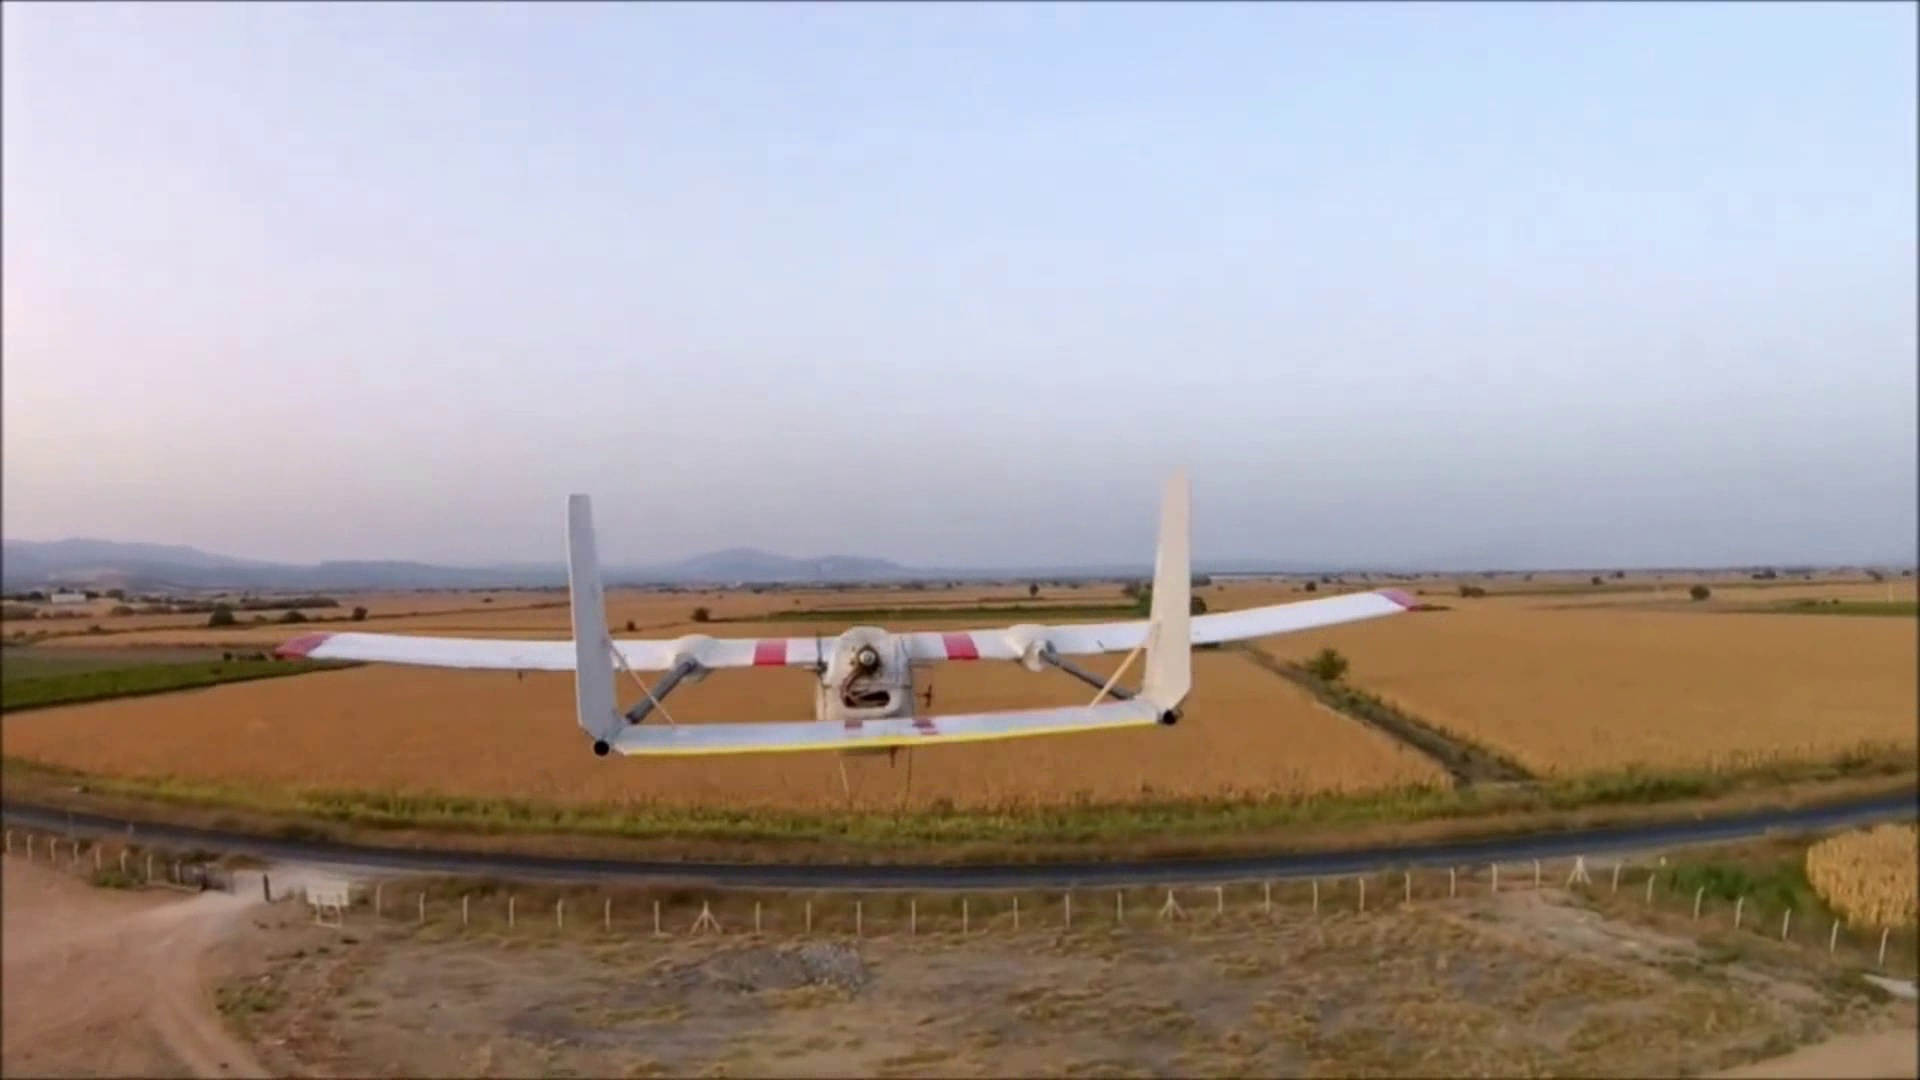airplane: (293, 473, 1422, 753)
